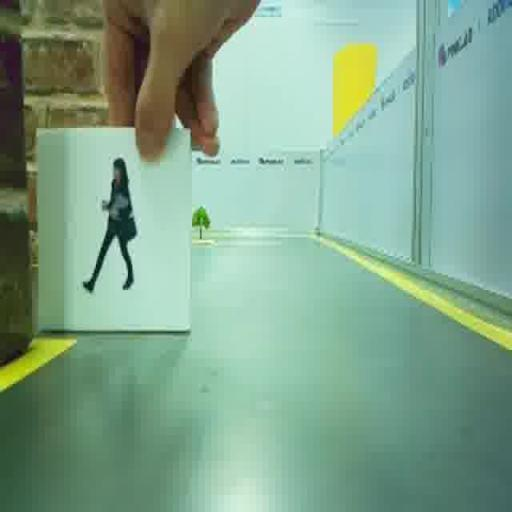human: (82, 158, 137, 292)
